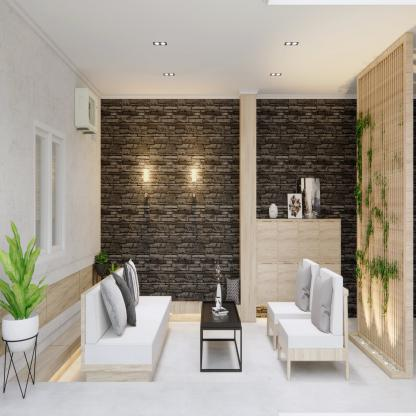meja: (198, 291, 247, 381)
sova: (85, 262, 175, 381)
tanaman: (2, 229, 43, 396)
